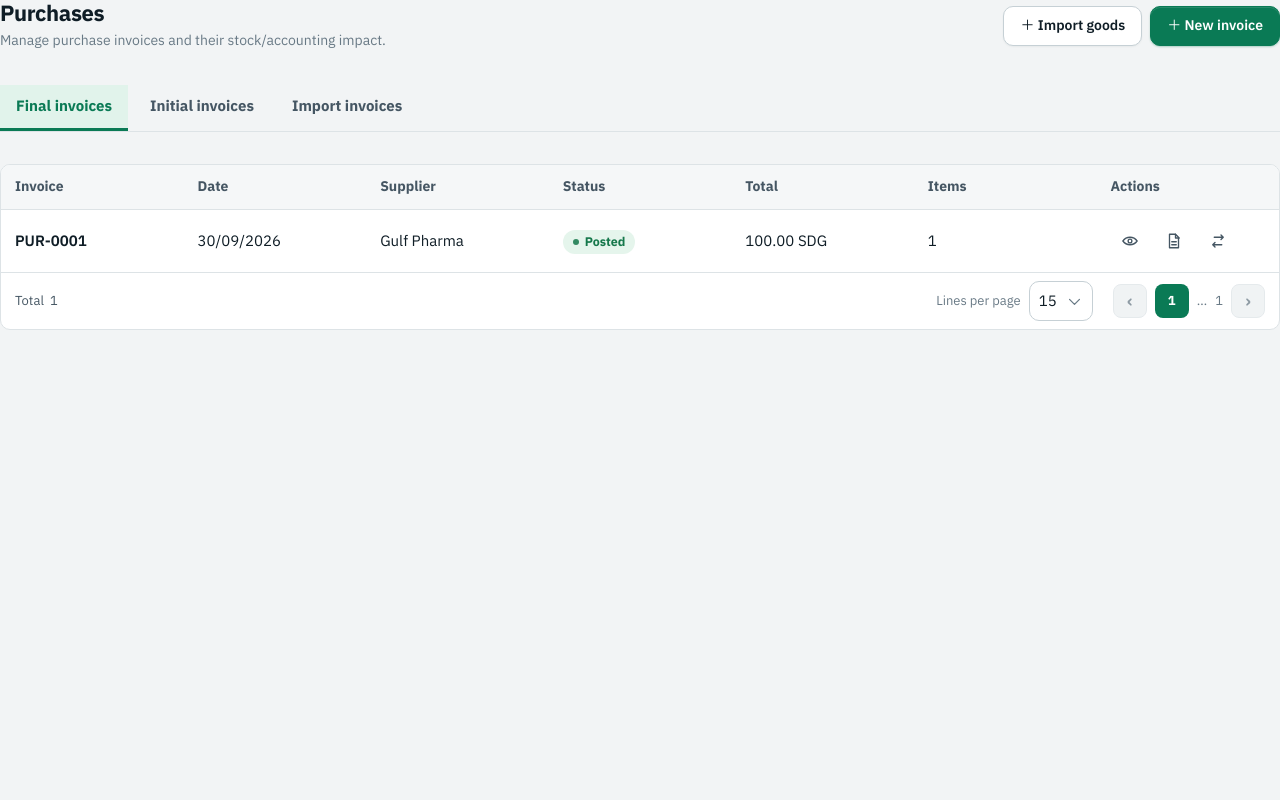
Test: PurchasesPage › opens the read-only detail of an invoice
Click the button named "View" at [1130, 241], box [1110,221,1150,261]
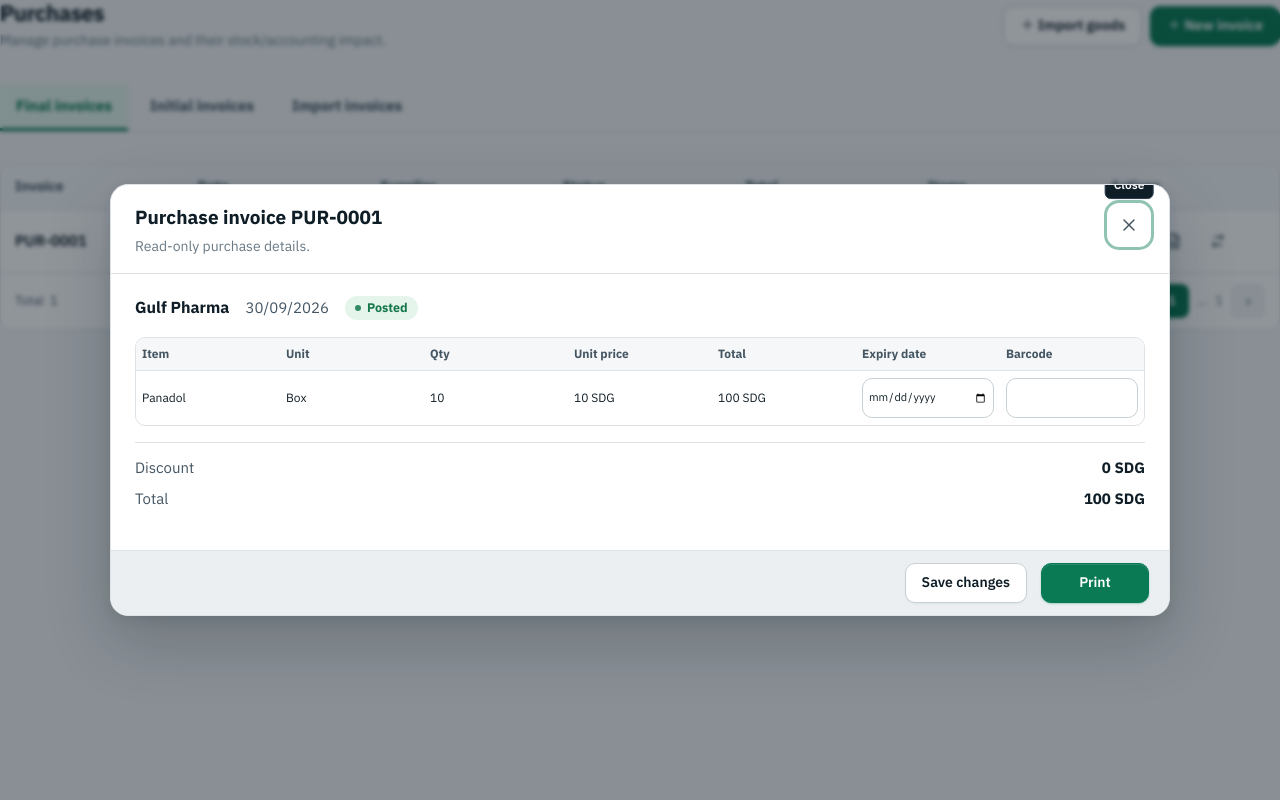
Check: the text "Panadol" is shown, box [136,371,280,425]
Check: the heading "Purchase invoice PUR-0001" is shown, box [135,205,382,232]
